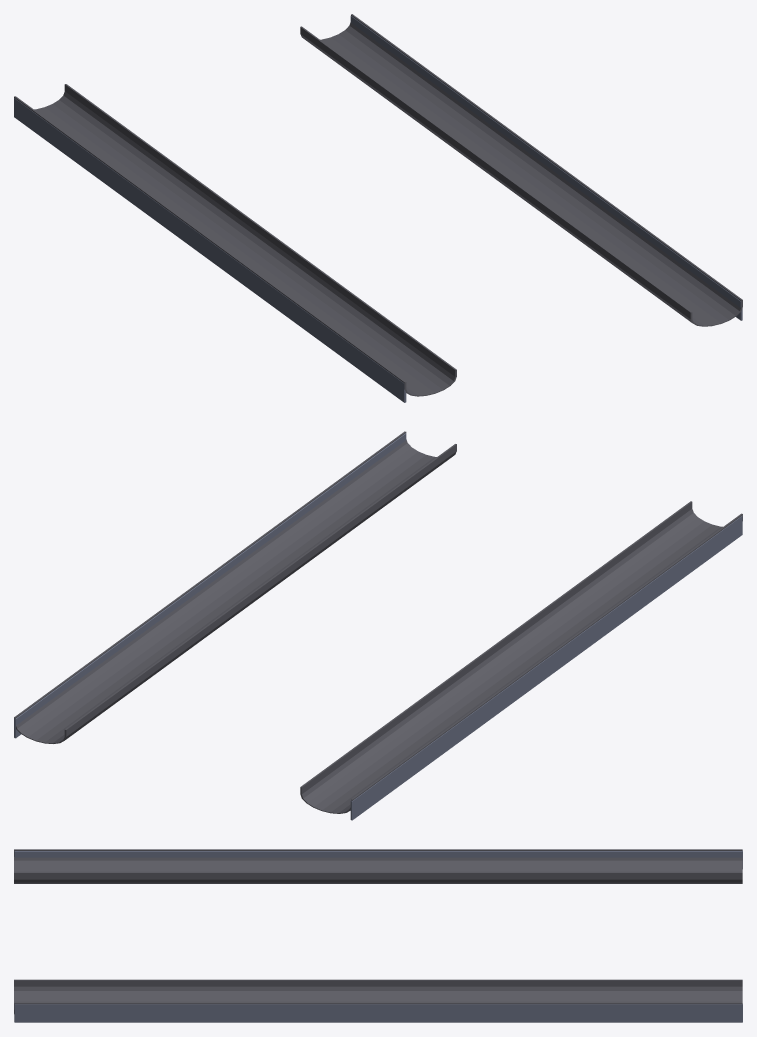
The model's file is gutter-pair.glb.
The picture shows the model from 3 angles, top to bottom: view 1: azimuth 30°, elevation 25°; view 2: azimuth 150°, elevation 25°; view 3: azimuth 270°, elevation 25°; orthographic projection. The views are drawn at different scales.
Parts seen in each view (by area): view 1: bowling-gutter-pair; view 2: bowling-gutter-pair; view 3: bowling-gutter-pair.
Boxes of the visible parts, box(x1,y1,x2,y2) form: bowling-gutter-pair: box(14, 14, 742, 402); bowling-gutter-pair: box(14, 431, 742, 820); bowling-gutter-pair: box(14, 849, 742, 1022).
Size of the model in its own units: 1.53 by 0.0899 by 3.05.
